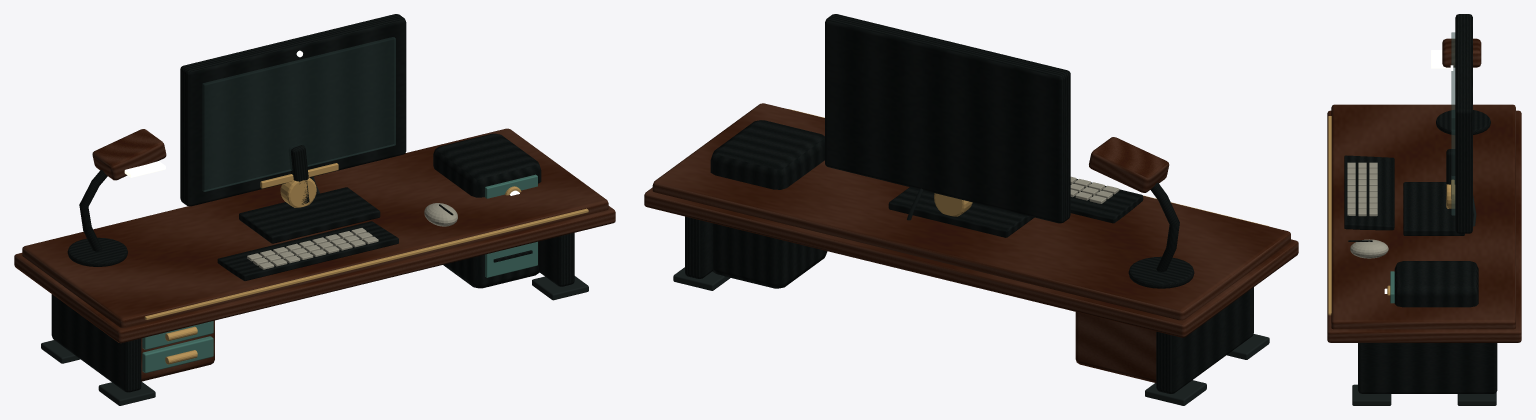
Rendered from study-workstation.glb.
The picture shows the model from 3 angles, left to right: view 1: azimuth 30°, elevation 25°; view 2: azimuth 150°, elevation 25°; view 3: azimuth 270°, elevation 25°; orthographic projection. The views are drawn at different scales.
Parts seen in each view (by area): view 1: Workstation_Desktop, Workstation_Monitor_Frame, Workstation_Monitor_Recess, Workstation_DesktopCore, Workstation_Tower, Workstation_Monitor_Base, Workstation_Leg_-2.82, Workstation_Keyboard, Workstation_Lamp_Head, Workstation_Desktop_Inlay, Workstation_TowerInset, Workstation_Leg_2.82 (+10 smaller); view 2: Workstation_Monitor_Frame, Workstation_Desktop, Workstation_DesktopCore, Workstation_Tower, Workstation_Leg_-2.82, Workstation_Drawer, Workstation_Monitor_Base, Workstation_Lamp_Head, Workstation_Leg_2.82, Workstation_Lamp_Base, Workstation_Keyboard, Workstation_Lamp_Arm (+4 smaller); view 3: Workstation_Desktop, Workstation_Leg_2.82, Workstation_DesktopCore, Workstation_Monitor_Frame, Workstation_Tower, Workstation_Keyboard, Workstation_Monitor_Base, Workstation_Monitor_Recess, Workstation_Desktop_Inlay, Workstation_Lamp_Base, Workstation_Lamp_Head, Workstation_Mouse (+5 smaller).
Part boxes in pixels (x1=…): Workstation_Desktop: x1=22, y1=128, x2=608, y2=327; Workstation_Monitor_Frame: x1=180, y1=14, x2=406, y2=206; Workstation_Monitor_Recess: x1=202, y1=37, x2=395, y2=191; Workstation_DesktopCore: x1=14, y1=206, x2=615, y2=343; Workstation_Tower: x1=433, y1=133, x2=541, y2=288; Workstation_Monitor_Base: x1=239, y1=187, x2=380, y2=243; Workstation_Leg_-2.82: x1=51, y1=294, x2=141, y2=392; Workstation_Keyboard: x1=217, y1=221, x2=398, y2=280; Workstation_Lamp_Head: x1=92, y1=129, x2=166, y2=180; Workstation_Desktop_Inlay: x1=144, y1=208, x2=588, y2=319; Workstation_TowerInset: x1=485, y1=174, x2=537, y2=277; Workstation_Leg_2.82: x1=538, y1=233, x2=574, y2=286; Workstation_Monitor_Frame: x1=825, y1=14, x2=1070, y2=223; Workstation_Desktop: x1=652, y1=103, x2=1290, y2=320; Workstation_DesktopCore: x1=644, y1=187, x2=1298, y2=337; Workstation_Tower: x1=710, y1=120, x2=827, y2=288; Workstation_Leg_-2.82: x1=1156, y1=287, x2=1253, y2=393; Workstation_Drawer: x1=1075, y1=312, x2=1156, y2=382; Workstation_Monitor_Base: x1=888, y1=187, x2=1034, y2=237; Workstation_Lamp_Head: x1=1089, y1=137, x2=1169, y2=192; Workstation_Leg_2.82: x1=685, y1=216, x2=713, y2=278; Workstation_Lamp_Base: x1=1128, y1=256, x2=1194, y2=288; Workstation_Keyboard: x1=1070, y1=179, x2=1143, y2=223; Workstation_Lamp_Arm: x1=1150, y1=182, x2=1179, y2=271; Workstation_Desktop: x1=1331, y1=104, x2=1515, y2=329; Workstation_Leg_2.82: x1=1358, y1=343, x2=1497, y2=393; Workstation_DesktopCore: x1=1327, y1=110, x2=1521, y2=342; Workstation_Monitor_Frame: x1=1455, y1=14, x2=1472, y2=233; Workstation_Tower: x1=1394, y1=261, x2=1478, y2=307; Workstation_Keyboard: x1=1344, y1=155, x2=1394, y2=230; Workstation_Monitor_Base: x1=1403, y1=182, x2=1464, y2=235; Workstation_Monitor_Recess: x1=1451, y1=32, x2=1455, y2=215; Workstation_Desktop_Inlay: x1=1328, y1=116, x2=1331, y2=315; Workstation_Lamp_Base: x1=1436, y1=110, x2=1490, y2=134; Workstation_Lamp_Head: x1=1442, y1=38, x2=1481, y2=67; Workstation_Mouse: x1=1350, y1=239, x2=1388, y2=258.
Size of the model in its own units: 6.48 by 3.27 by 2.4.
Materials: 13 (7 with a texture image).
